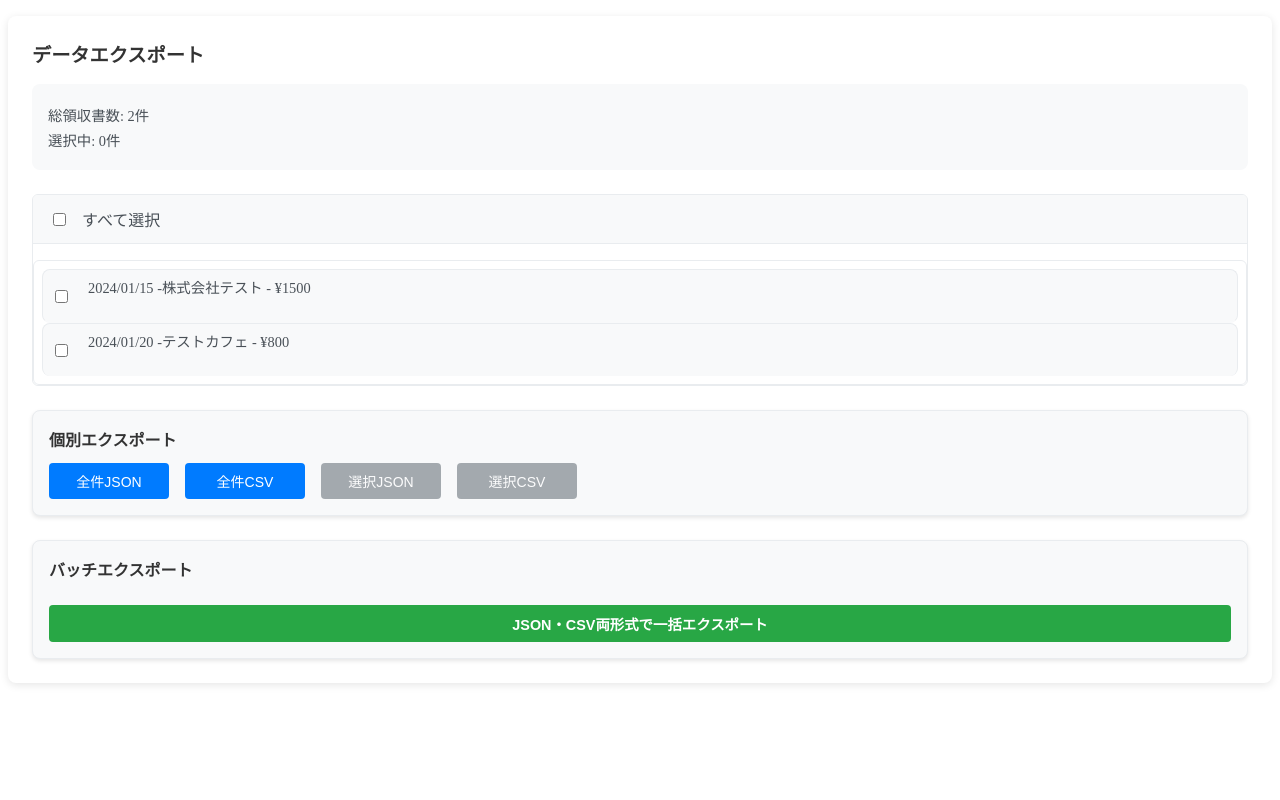
it: ExportPanel › should handle export errors
What coordinates should you click on to do the following:
click the button "全件JSON"
I would click on:
 (109, 481)
Its box is [49,463,169,499].
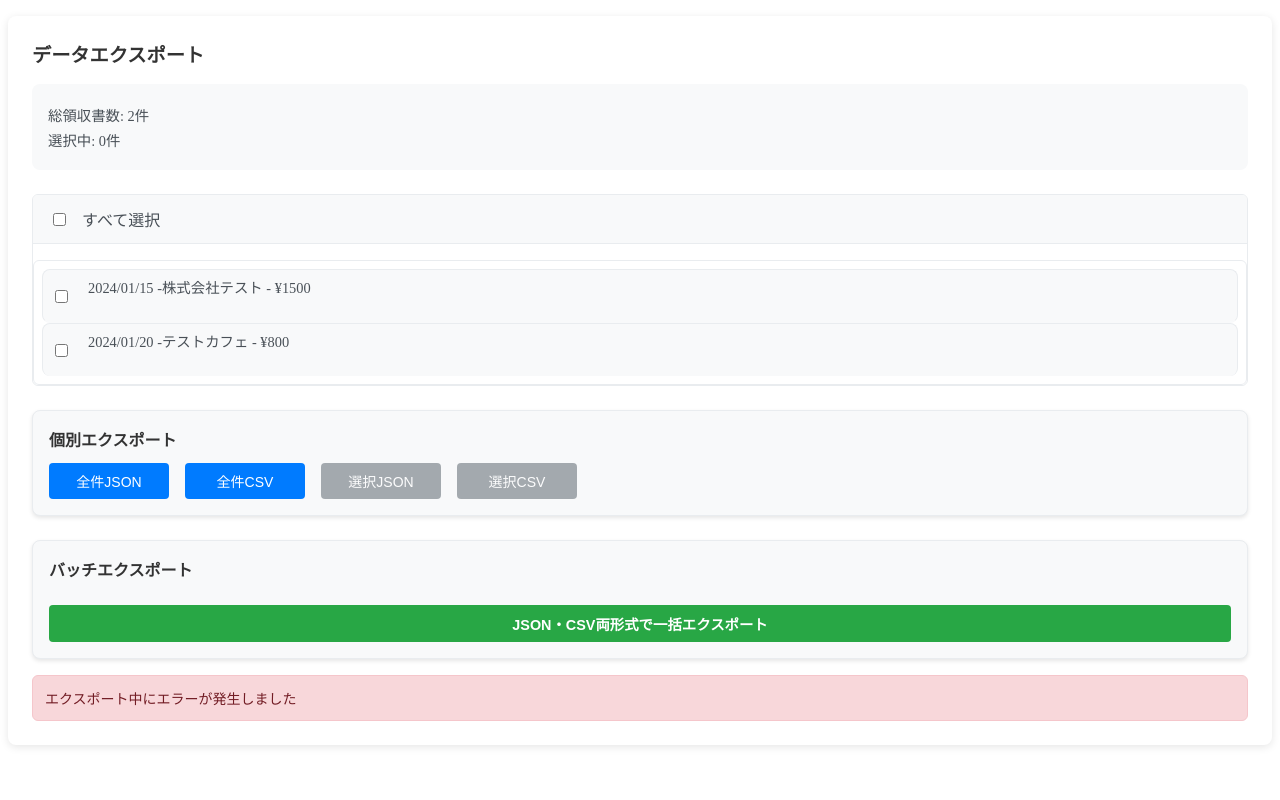
Expected: the text "エクスポート中にエラーが発生しました" is shown, [32,675,1248,721]
